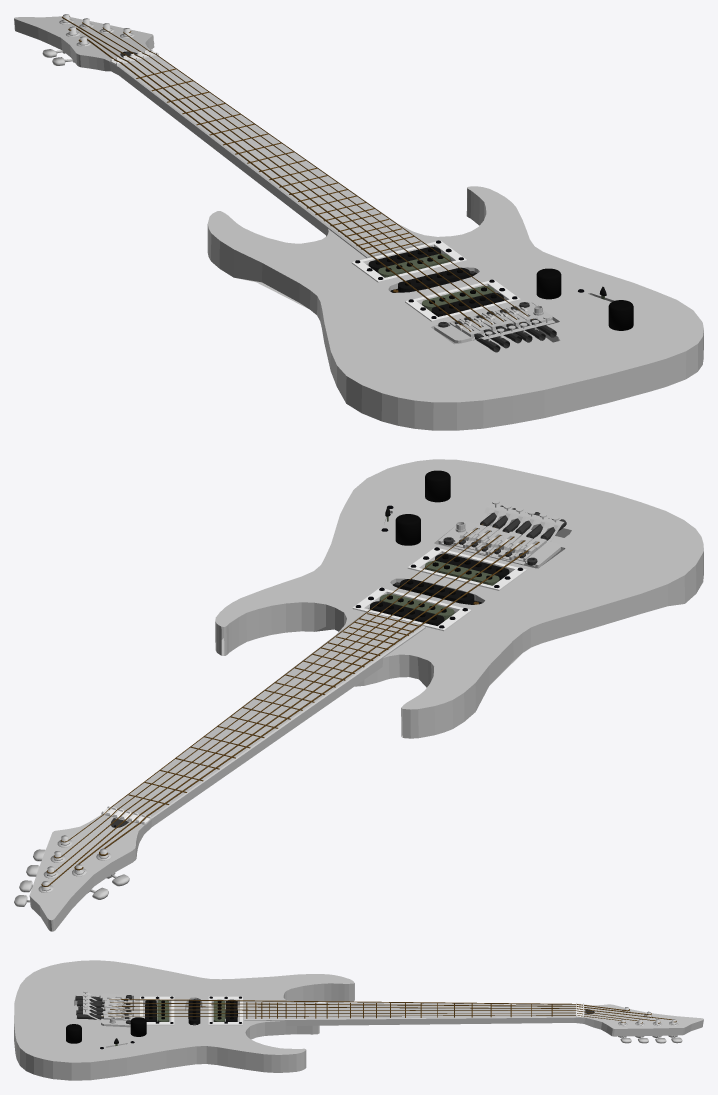
File: uploads_files_2812823_Guitar.fbx
3 renders of one model, top to bottom at view 1: azimuth 30°, elevation 25°; view 2: azimuth 150°, elevation 25°; view 3: azimuth 270°, elevation 25°, orthographic. The views are drawn at different scales.
Parts seen in each view (by area): view 1: Cube.020 (×11); view 2: Cube.020 (×10); view 3: Cube.020 (×11).
Boxes of the visible parts, <box> form: Cube.020 (×11): <box>14,14,703,430</box>; Cube.020 (×10): <box>14,459,703,931</box>; Cube.020 (×11): <box>14,960,703,1080</box>.
Size of the model in its own units: 592 by 97.23 by 1681.
